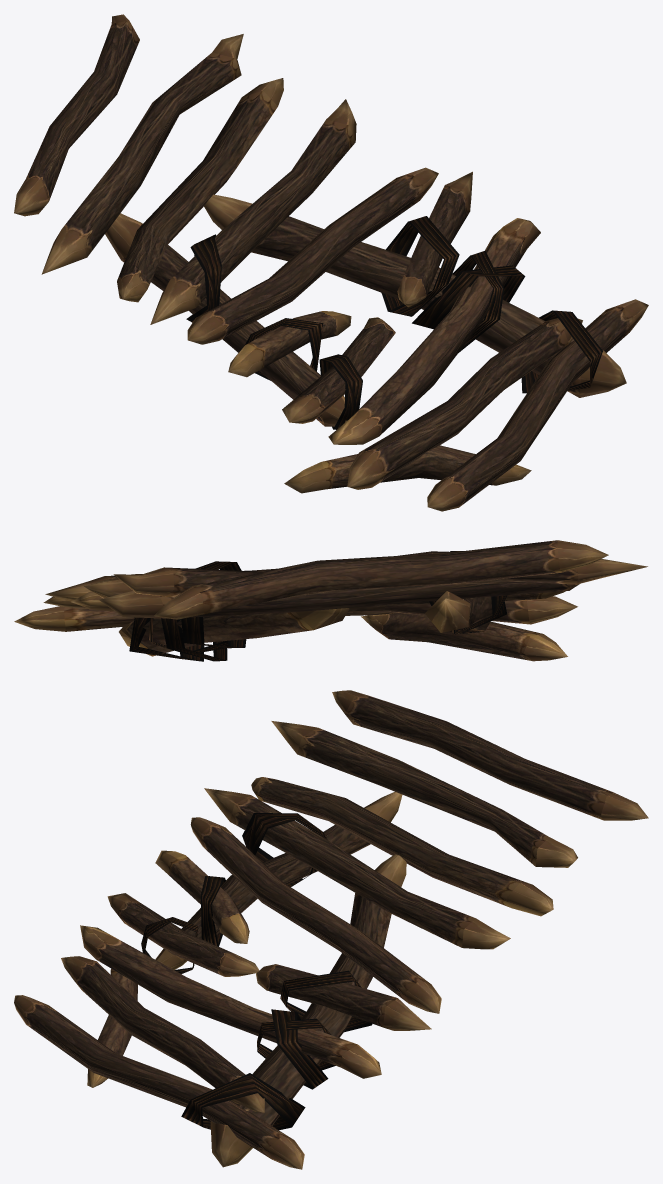
Rendered from lava_wallstair_diagonal_01.fbx.
3 views of the same model, one above another, from view 1: azimuth 30°, elevation 25°; view 2: azimuth 150°, elevation 25°; view 3: azimuth 270°, elevation 25° (orthographic). The views are drawn at different scales.
Visible parts, largest first — view 1: lava_tileset/wood_pole_mat_shadow; view 2: lava_tileset/wood_pole_mat_shadow; view 3: lava_tileset/wood_pole_mat_shadow.
Part boxes in pixels (<box>): lava_tileset/wood_pole_mat_shadow: <box>14,14,648,511</box>; lava_tileset/wood_pole_mat_shadow: <box>14,540,647,661</box>; lava_tileset/wood_pole_mat_shadow: <box>14,690,648,1169</box>.
Size of the model in its own units: 6.83 by 2.96 by 6.7.
